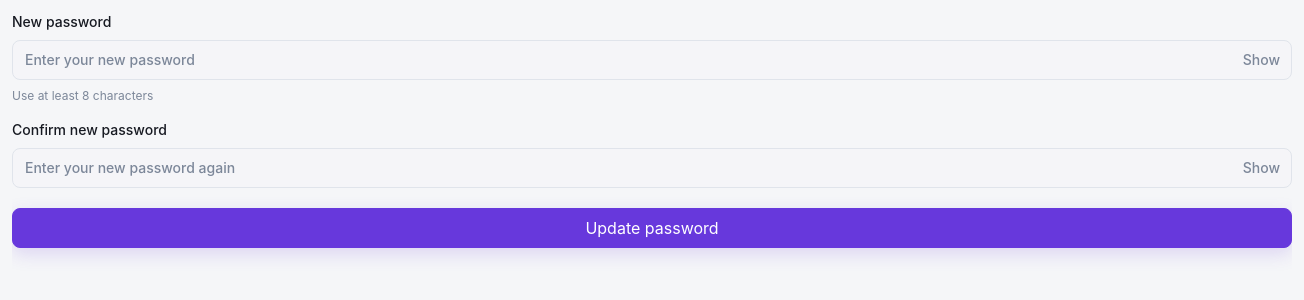
Test: ResetPasswordForm › blocks passwords that do not match
The width and height of the screenshot is (1304, 300).
Type "new-cordis-password" into the password field labelled "New password Show Use at least 8 characters".
click(652, 60); type("new-cordis-password")  # box [12,40,1292,80]
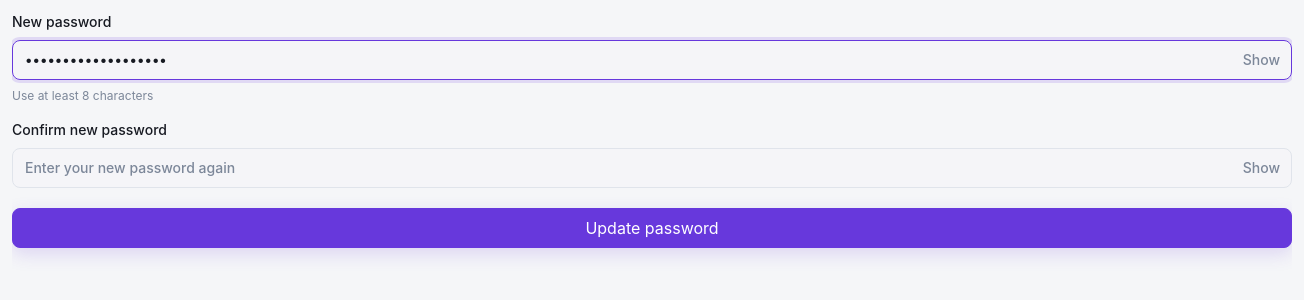
Type "different-password" into the password field labelled "Confirm new password Show".
click(652, 168); type("different-password")  # box [12,148,1292,188]
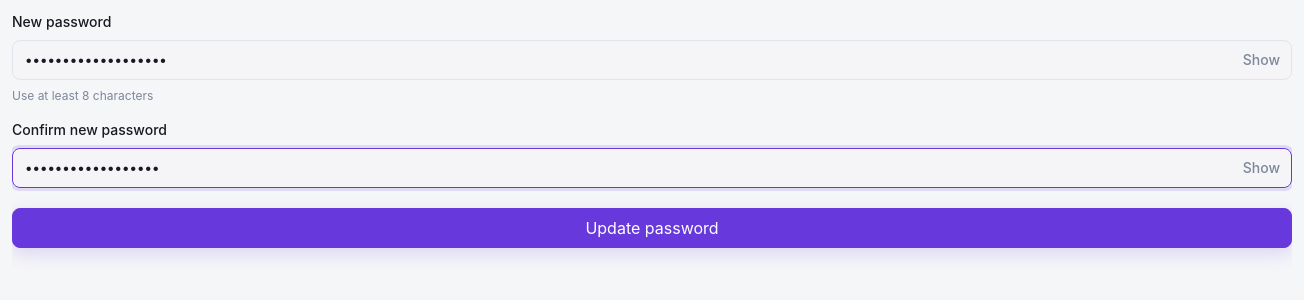
Click the button "Update password".
click(652, 228)  # box [12,208,1292,248]
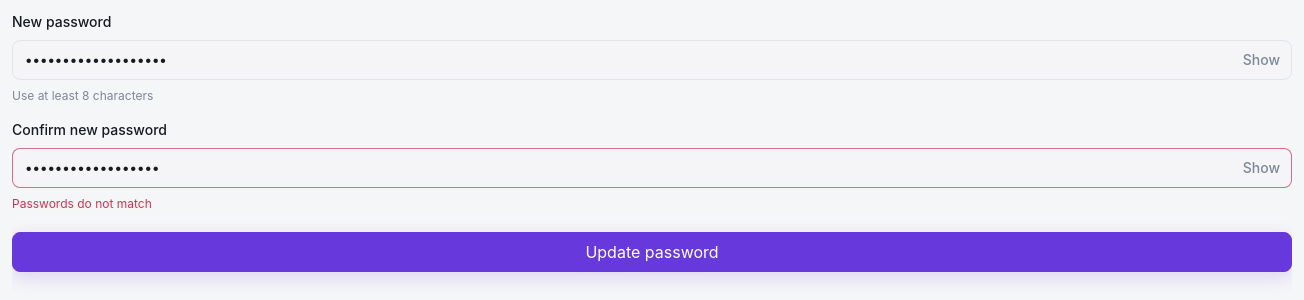
Expected: the text "Passwords do not match" is shown, [12,196,152,211]
